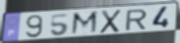4: (150, 5, 173, 31)
5: (49, 12, 69, 37)
9: (24, 15, 45, 39)
M: (69, 10, 99, 36)
R: (124, 8, 149, 32)
X: (99, 9, 123, 35)
